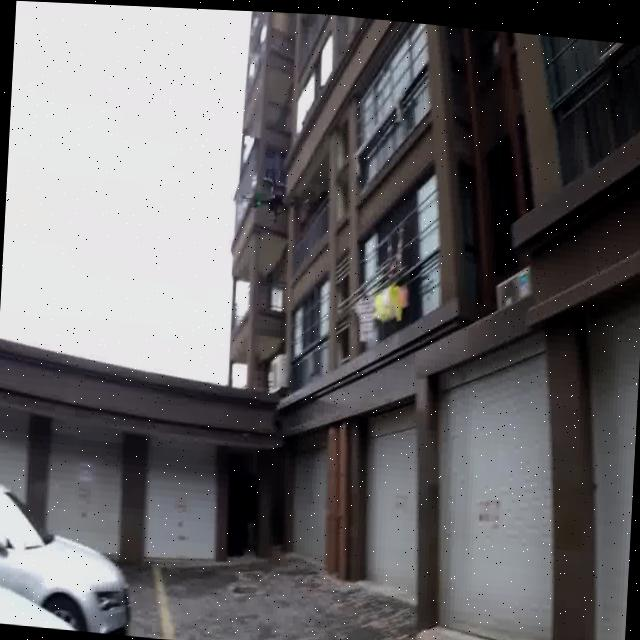drone: (242, 166, 290, 225)
